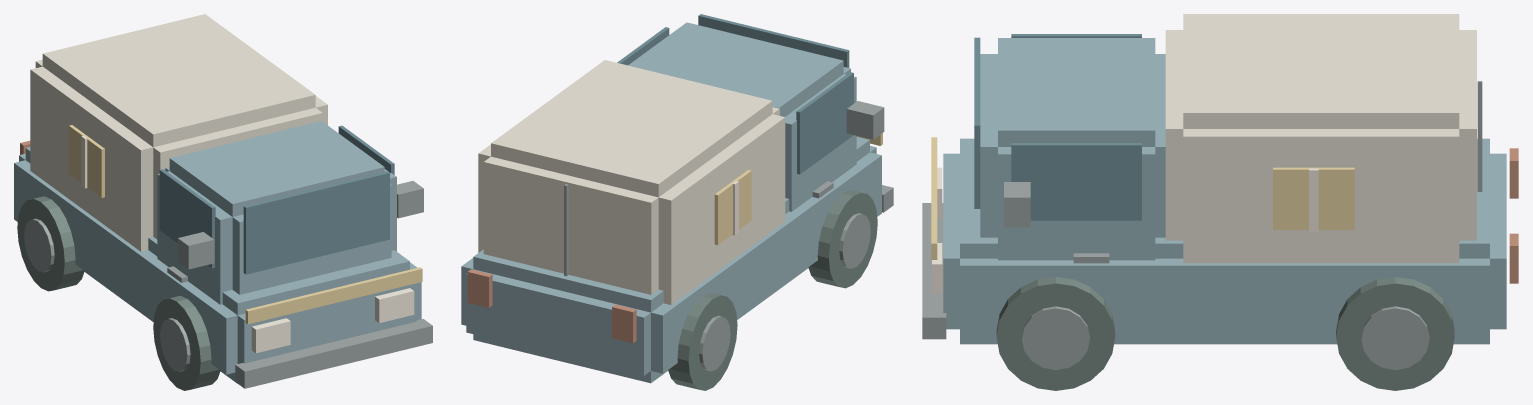
The model's file is delivery-van.glb.
3 views of the same model, side by side, from view 1: azimuth 30°, elevation 25°; view 2: azimuth 150°, elevation 25°; view 3: azimuth 270°, elevation 25° (orthographic). The views are drawn at different scales.
Visible parts, largest first — view 1: Cargo box, Lower body, Cab, Windshield, Bumper, Wheel.001, Wheel, Side glass, Delivery stripe, Parcel logo, Wheel hub.001, Wheel hub (+5 smaller); view 2: Cargo box, Lower body, Cab, Side glass, Wheel, Wheel.001, Windshield, Parcel logo, Wheel hub, Wheel hub.001, Mirror, Tail light.001 (+3 smaller); view 3: Cargo box, Lower body, Cab, Side glass.001, Wheel.003, Wheel.002, Parcel logo.001, Wheel hub.002, Wheel hub.003, Bumper, Mirror.001, Windshield (+6 smaller).
Part boxes in pixels (x1=…): Cargo box: x1=30, y1=14, x2=327, y2=251; Lower body: x1=14, y1=147, x2=421, y2=383; Cab: x1=157, y1=121, x2=396, y2=304; Windshield: x1=243, y1=171, x2=389, y2=274; Bumper: x1=235, y1=319, x2=432, y2=388; Wheel.001: x1=153, y1=295, x2=220, y2=390; Wheel: x1=17, y1=196, x2=84, y2=291; Side glass: x1=159, y1=169, x2=215, y2=268; Delivery stripe: x1=245, y1=267, x2=422, y2=324; Parcel logo: x1=69, y1=125, x2=104, y2=197; Wheel hub.001: x1=160, y1=318, x2=190, y2=371; Wheel hub: x1=24, y1=218, x2=54, y2=272; Cargo box: x1=478, y1=60, x2=785, y2=304; Lower body: x1=461, y1=137, x2=881, y2=383; Cab: x1=628, y1=22, x2=856, y2=211; Side glass: x1=796, y1=72, x2=853, y2=174; Wheel: x1=668, y1=292, x2=737, y2=390; Wheel.001: x1=808, y1=190, x2=877, y2=288; Windshield: x1=698, y1=14, x2=849, y2=67; Parcel logo: x1=714, y1=170, x2=751, y2=245; Wheel hub: x1=699, y1=315, x2=730, y2=371; Wheel hub.001: x1=839, y1=213, x2=870, y2=268; Mirror: x1=846, y1=101, x2=884, y2=139; Tail light.001: x1=467, y1=269, x2=492, y2=307; Cargo box: x1=1165, y1=14, x2=1476, y2=263; Lower body: x1=943, y1=138, x2=1506, y2=344; Cab: x1=980, y1=38, x2=1165, y2=260; Side glass.001: x1=1011, y1=143, x2=1141, y2=220; Wheel.003: x1=996, y1=277, x2=1115, y2=390; Wheel.002: x1=1336, y1=277, x2=1454, y2=390; Parcel logo.001: x1=1273, y1=167, x2=1354, y2=229; Wheel hub.002: x1=1361, y1=306, x2=1429, y2=369; Wheel hub.003: x1=1021, y1=306, x2=1089, y2=369; Bumper: x1=922, y1=203, x2=946, y2=339; Mirror.001: x1=1004, y1=182, x2=1030, y2=227; Windshield: x1=974, y1=37, x2=980, y2=208.
Size of the model in its own units: 2.29 by 1.95 by 4.02.
